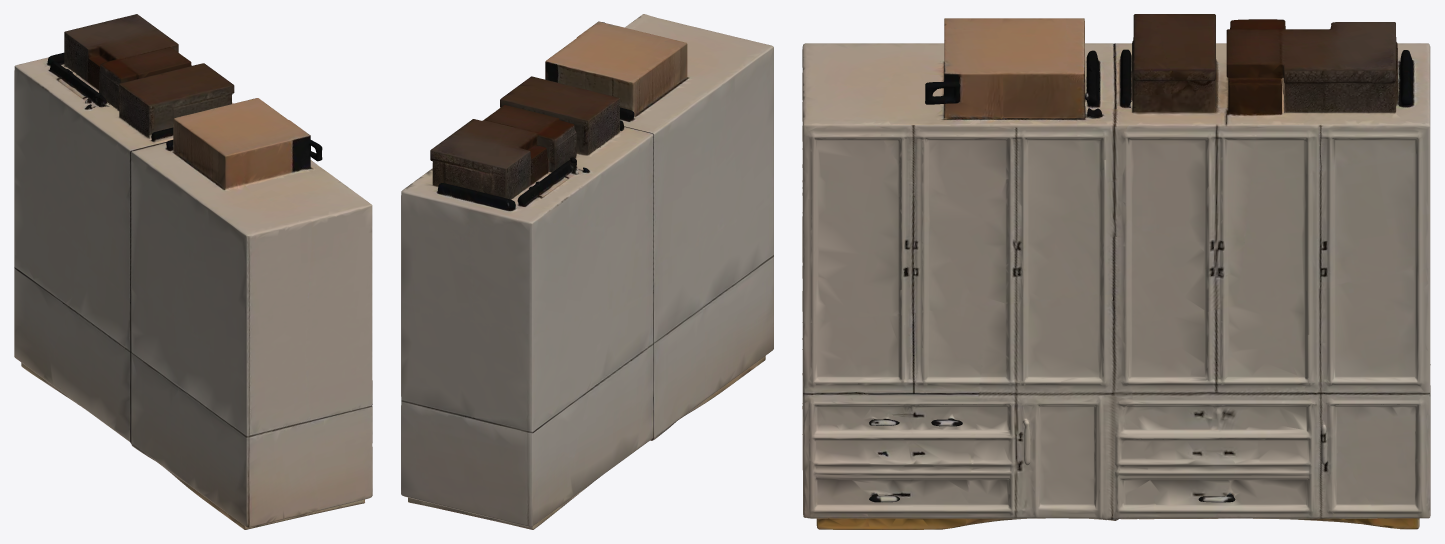
3 renders of one model, left to right at view 1: azimuth 30°, elevation 25°; view 2: azimuth 150°, elevation 25°; view 3: azimuth 270°, elevation 25°, orthographic. The views are drawn at different scales.
Parts seen in each view (by area): view 1: tripo_node_2559d1b3-4d57-49cc-bf43-dc024106c368; view 2: tripo_node_2559d1b3-4d57-49cc-bf43-dc024106c368; view 3: tripo_node_2559d1b3-4d57-49cc-bf43-dc024106c368.
Part boxes in pixels (x1,y1,x2,y2): tripo_node_2559d1b3-4d57-49cc-bf43-dc024106c368: [14, 14, 372, 529]; tripo_node_2559d1b3-4d57-49cc-bf43-dc024106c368: [401, 14, 773, 529]; tripo_node_2559d1b3-4d57-49cc-bf43-dc024106c368: [802, 14, 1430, 529].
Bounding box in the file's own units: 0.3322 × 0.7943 × 1.
1 material, 1 textured.
